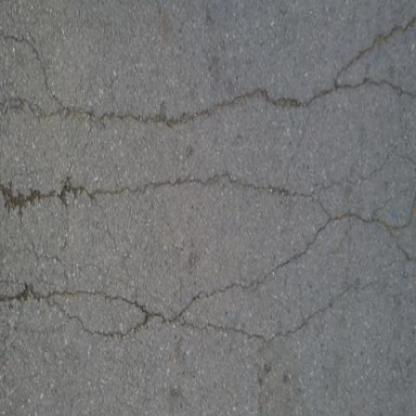Cracks: (0, 213, 415, 350), (0, 17, 415, 134), (2, 165, 415, 227)
